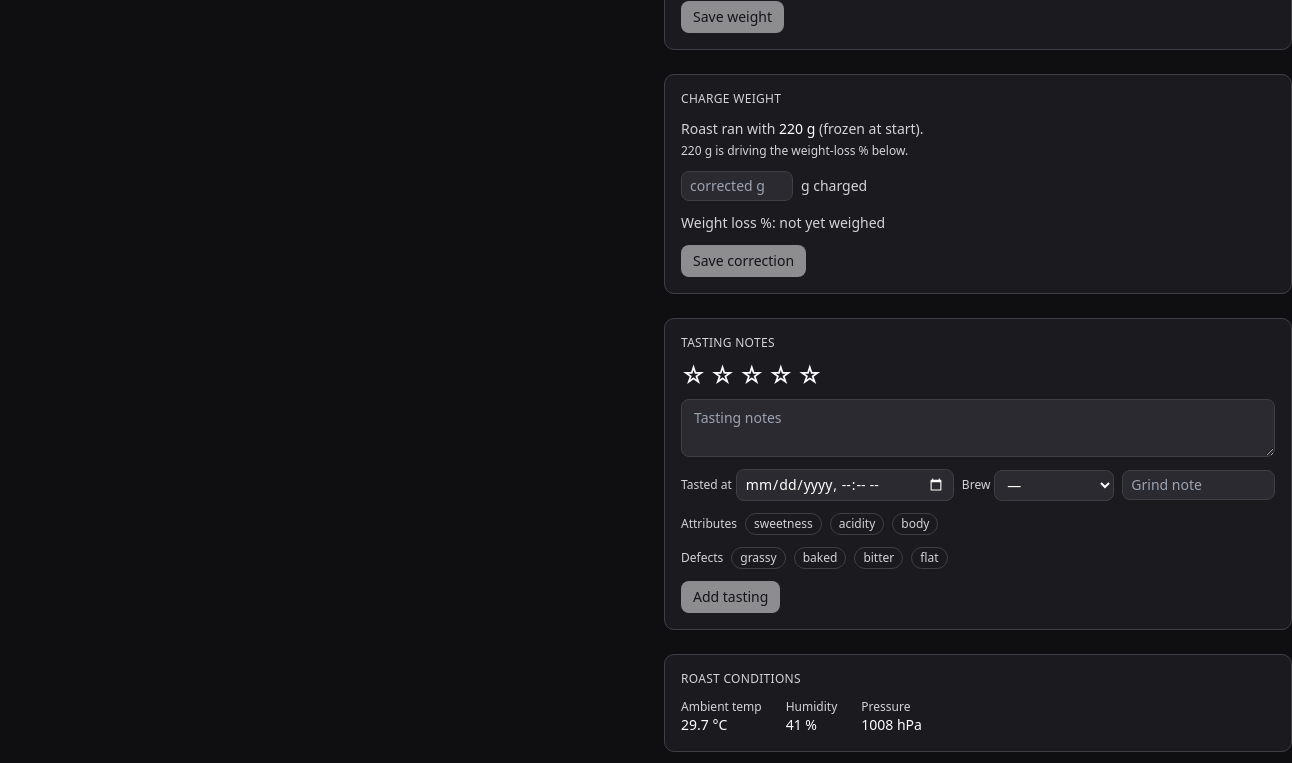
Test case: DetailView composition › #568 round 4 (PRRT_kwDOSzMG_c6RflF1): RoastRating's Edit stays blocked for the WHOLE partial-failure window, not just while a rating write is literally in fligh
The image size is (1292, 763).
(page scrolled)
Check: the element with test id "roast-tastings" is shown, box [664,318,1291,630]
Click the radio button with test id "tasting-star-2" at {"x": 723, "y": 375}, box [710,363,735,387]
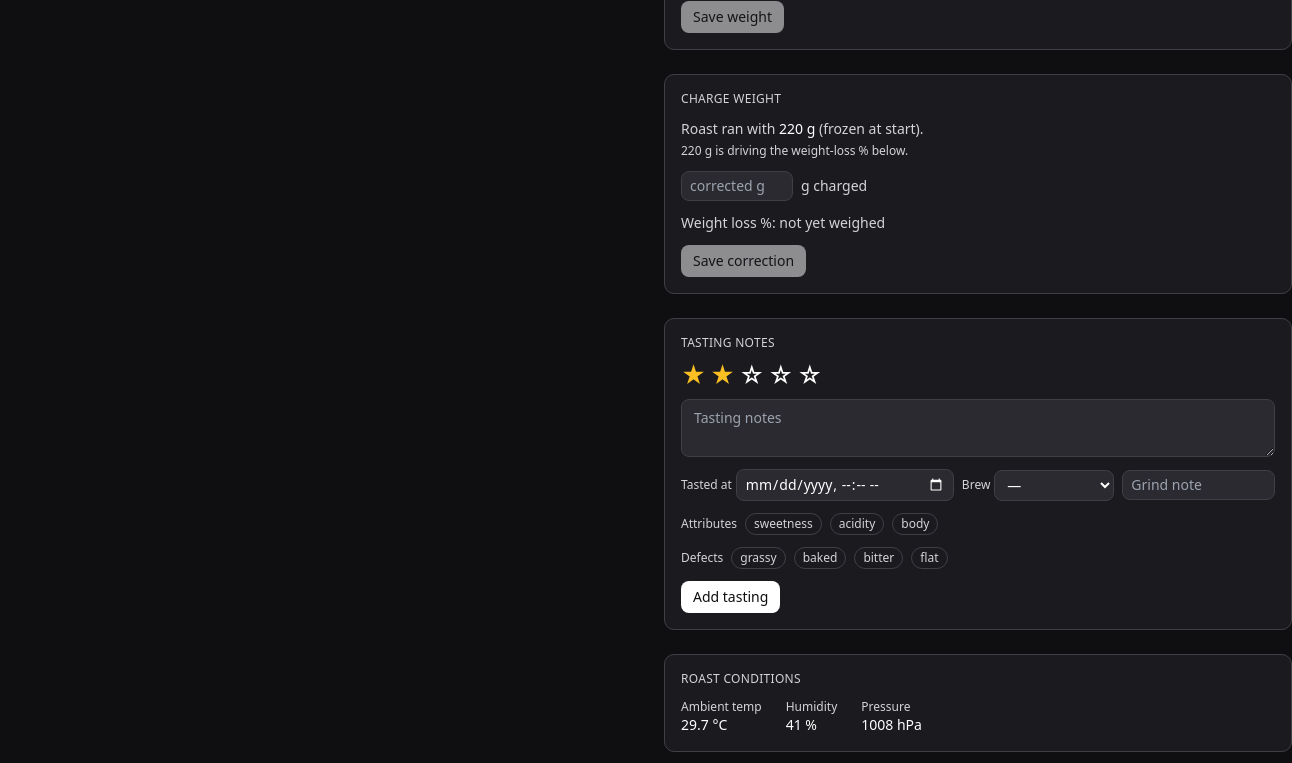
Click the button with test id "tasting-save" at {"x": 731, "y": 597}, box [681,581,780,613]
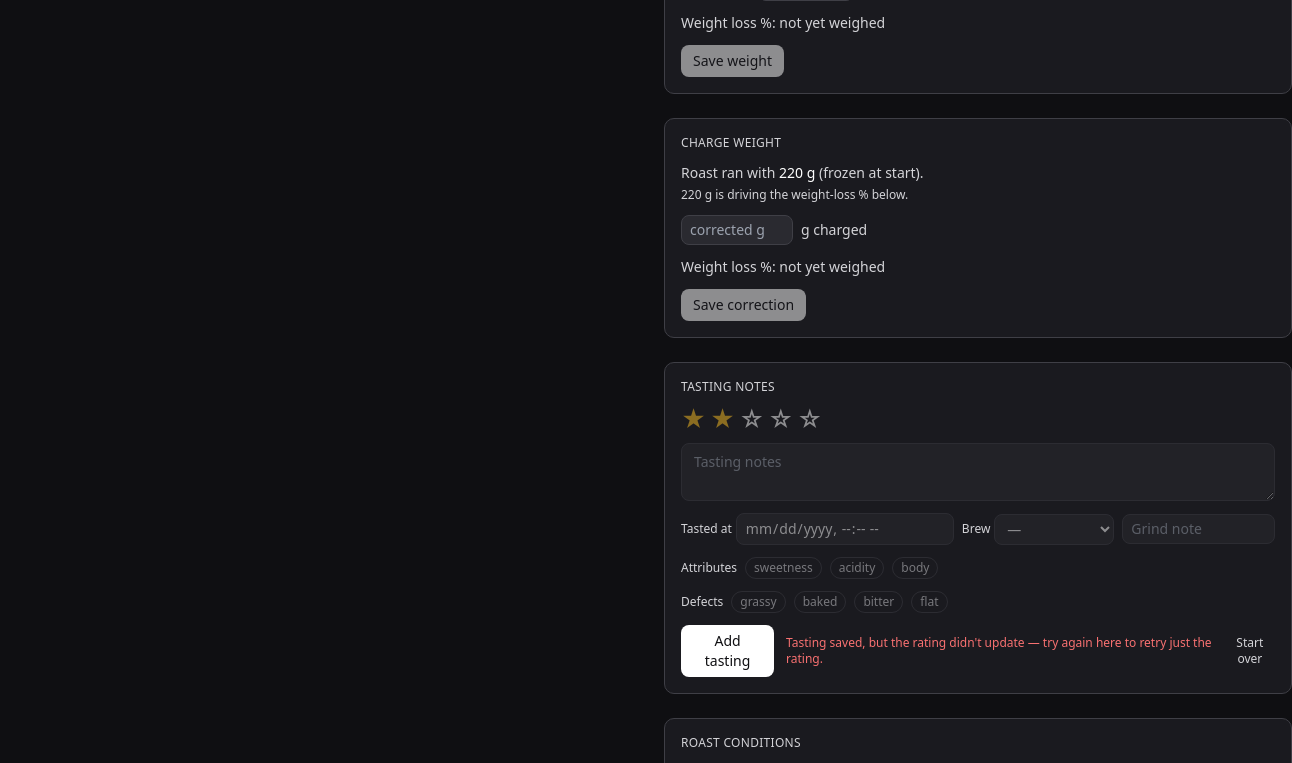
Check: the text with test id "rating-partial-error" is shown, box [786,635,1213,667]
Click the button with test id "tasting-save" at {"x": 728, "y": 651}, box [681,625,774,677]
(page scrolled)
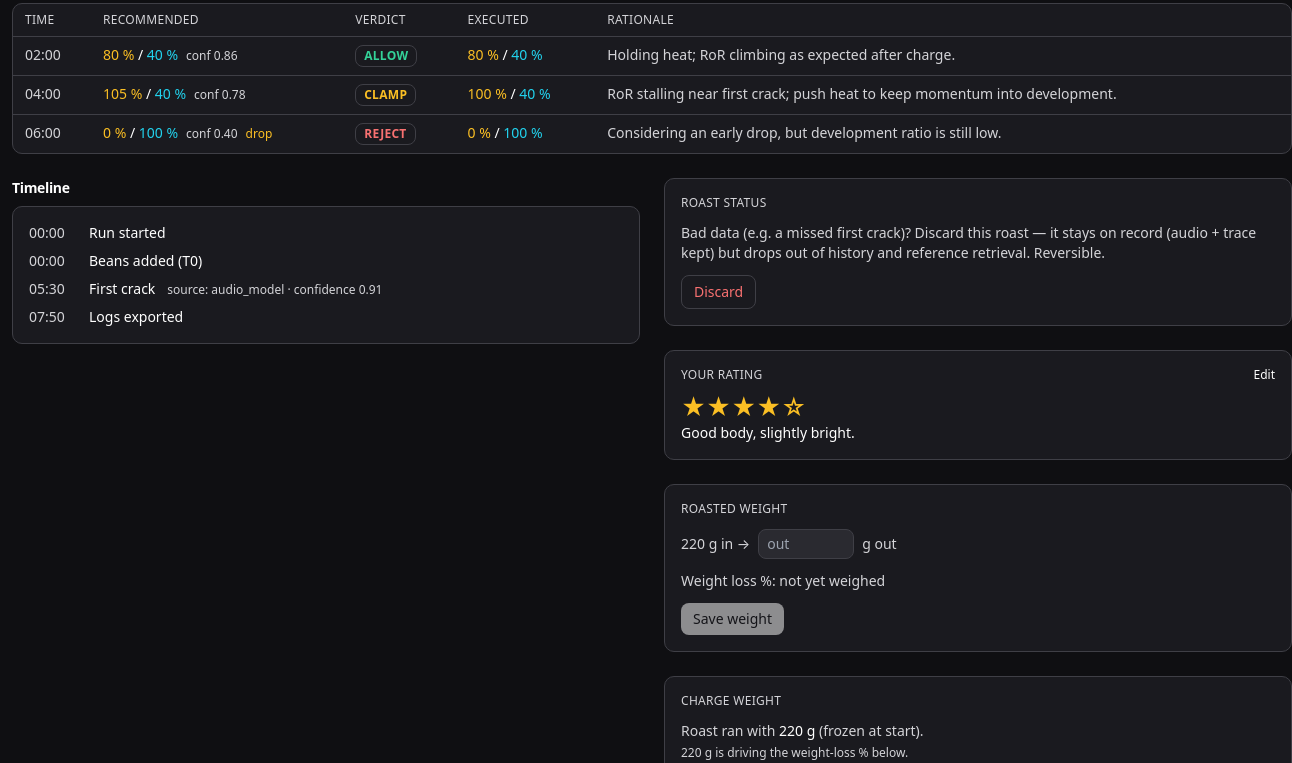
Check: the button with test id "rating-edit" is enabled, box [1254,367,1275,383]
